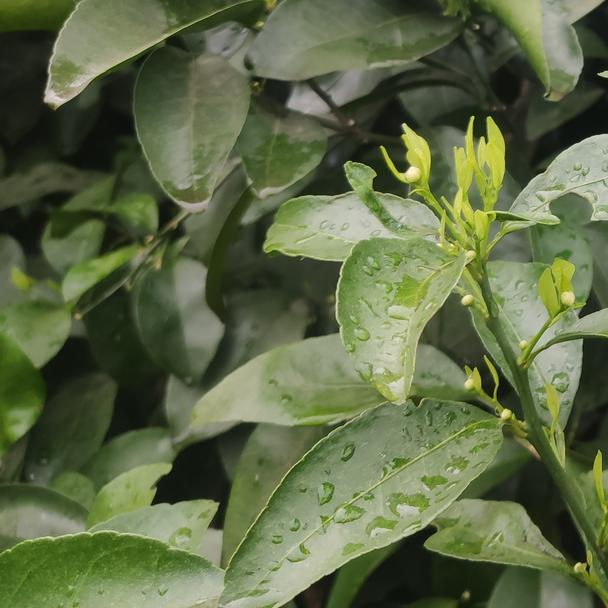shoot: (459, 108, 517, 232), (377, 130, 437, 193)
